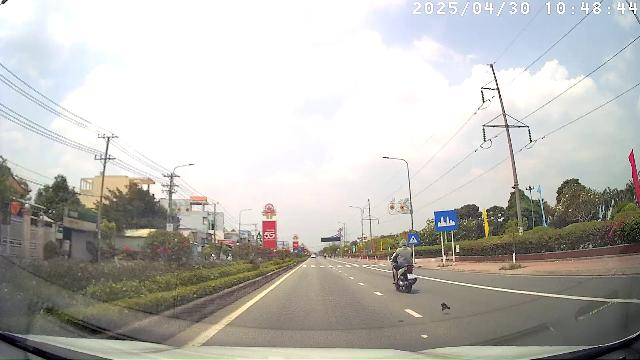420-bat-dau-khu-dong-dan-cu: (435, 212, 457, 229)
423a-duong-nguoi-di-bo-sang-ngang-1: (408, 234, 418, 244)
